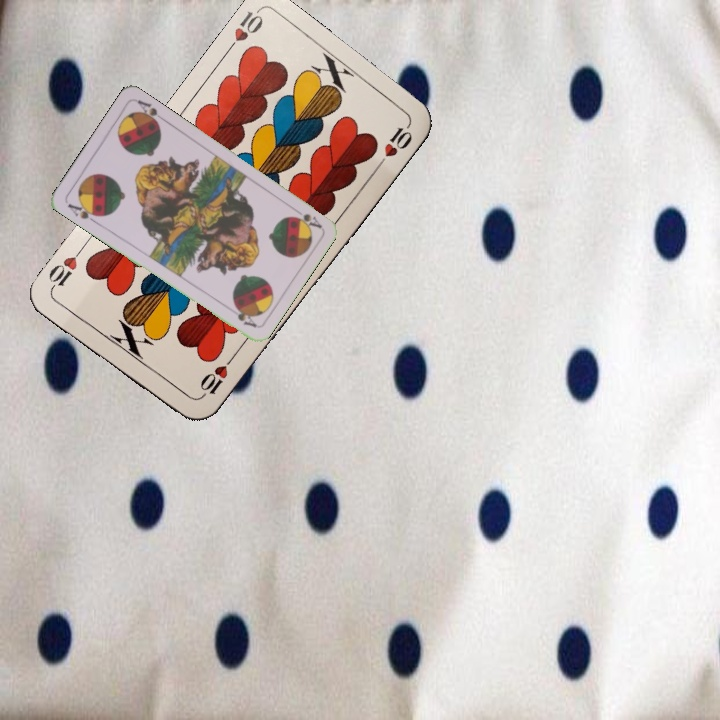H10: (221, 7, 266, 57), (196, 352, 237, 402)
SA: (63, 197, 103, 226), (288, 203, 324, 231)
